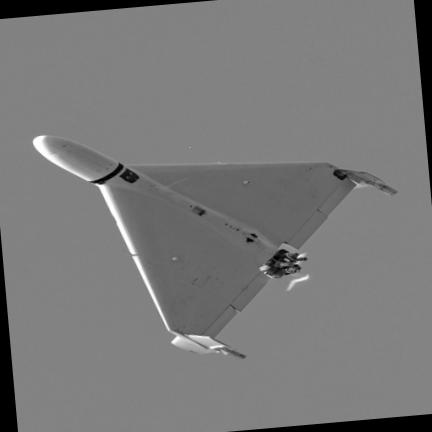Shahed: (34, 135, 368, 358)
